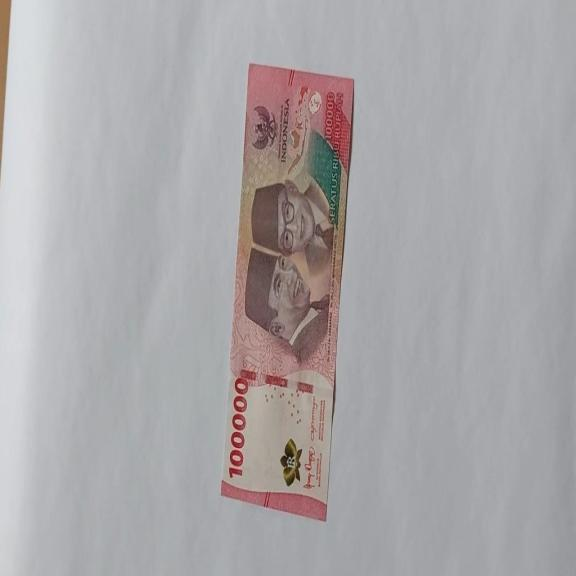Kertas: (219, 61, 355, 522)
